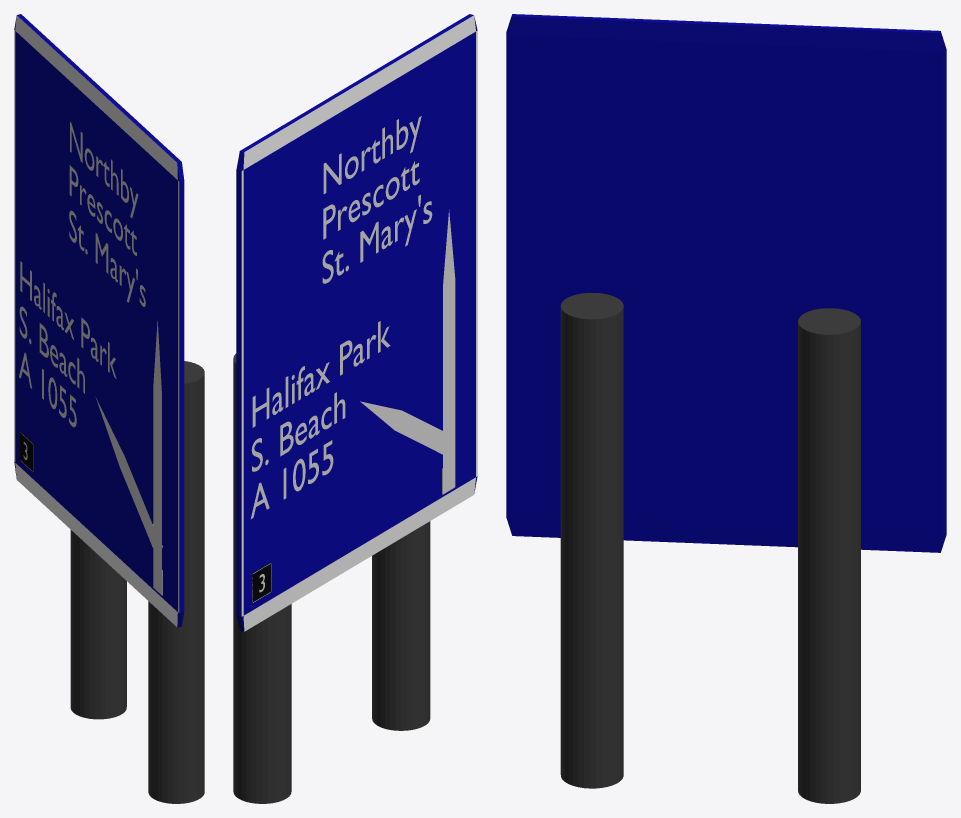
Rendered from JCT3JunctionSign1.fbx.
3 views of the same model, side by side, from view 1: azimuth 30°, elevation 25°; view 2: azimuth 150°, elevation 25°; view 3: azimuth 270°, elevation 25° (orthographic). The views are drawn at different scales.
Parts seen in each view (by area): view 1: Sign, Sign.005, Sign.006, Sign.003, Sign.004, Sign.007; view 2: Sign, Sign.005, Sign.006, Sign.003, Sign.004, Sign.007; view 3: Sign.
Boxes of the visible parts, <box> form: Sign: <box>14,14,204,803</box>; Sign.005: <box>19,261,116,427</box>; Sign.006: <box>69,122,145,306</box>; Sign.003: <box>153,321,162,595</box>; Sign.004: <box>95,397,162,556</box>; Sign.007: <box>20,432,33,472</box>; Sign: <box>233,14,477,803</box>; Sign.005: <box>251,321,390,518</box>; Sign.006: <box>322,116,432,283</box>; Sign.003: <box>442,209,455,494</box>; Sign.004: <box>360,401,449,454</box>; Sign.007: <box>252,562,271,602</box>; Sign: <box>506,14,946,803</box>.
Bounding box in the file's own units: 115 × 824 × 443.
